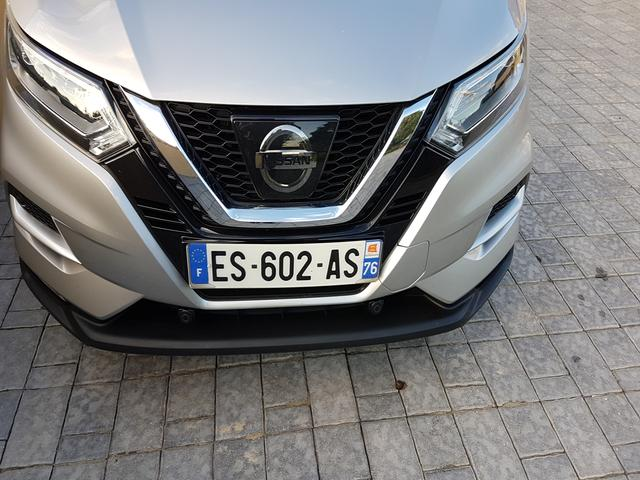Quashquai: (155, 203, 416, 304)
